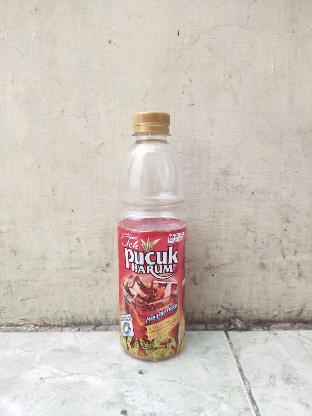Plastic Bottle: (116, 111, 188, 361)
